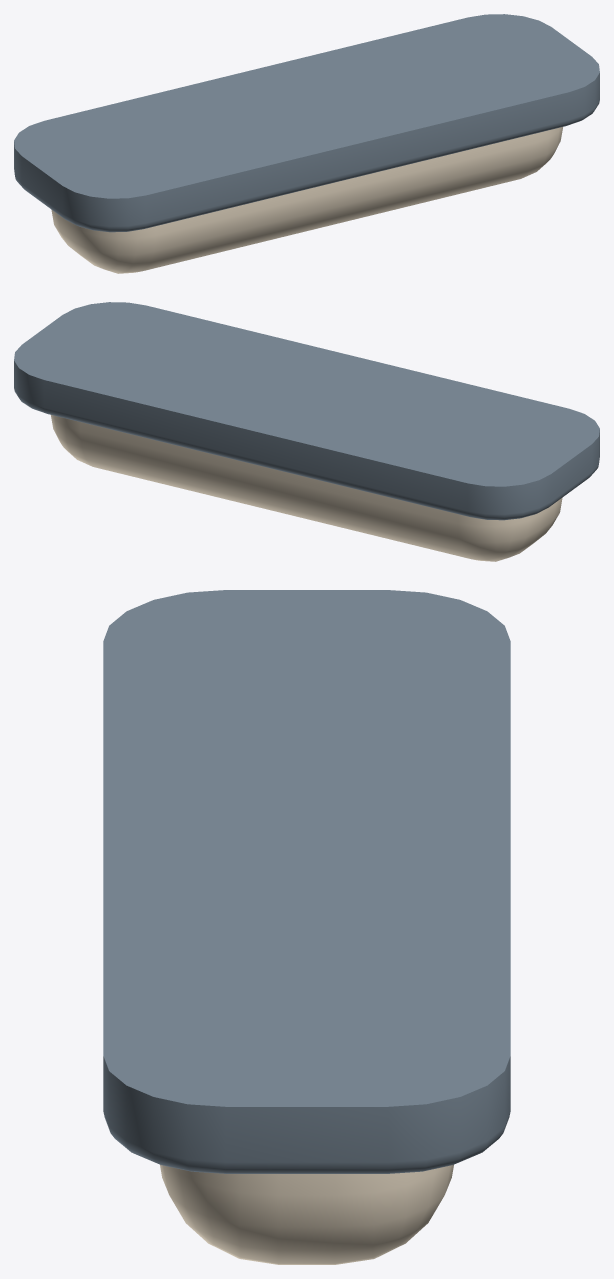
Rendered from Short_Roof_Light.fbx.
3 views of the same model, one above another, from view 1: azimuth 30°, elevation 25°; view 2: azimuth 150°, elevation 25°; view 3: azimuth 270°, elevation 25° (orthographic). The views are drawn at different scales.
Visible parts, largest first — view 1: Short Roof Light; view 2: Short Roof Light; view 3: Short Roof Light.
Boxes of the visible parts, x1,y1,x2,y2 form: Short Roof Light: (14, 14, 599, 273); Short Roof Light: (14, 302, 599, 561); Short Roof Light: (103, 590, 510, 1264).
Size of the model in its own units: 150 by 30 by 50.
